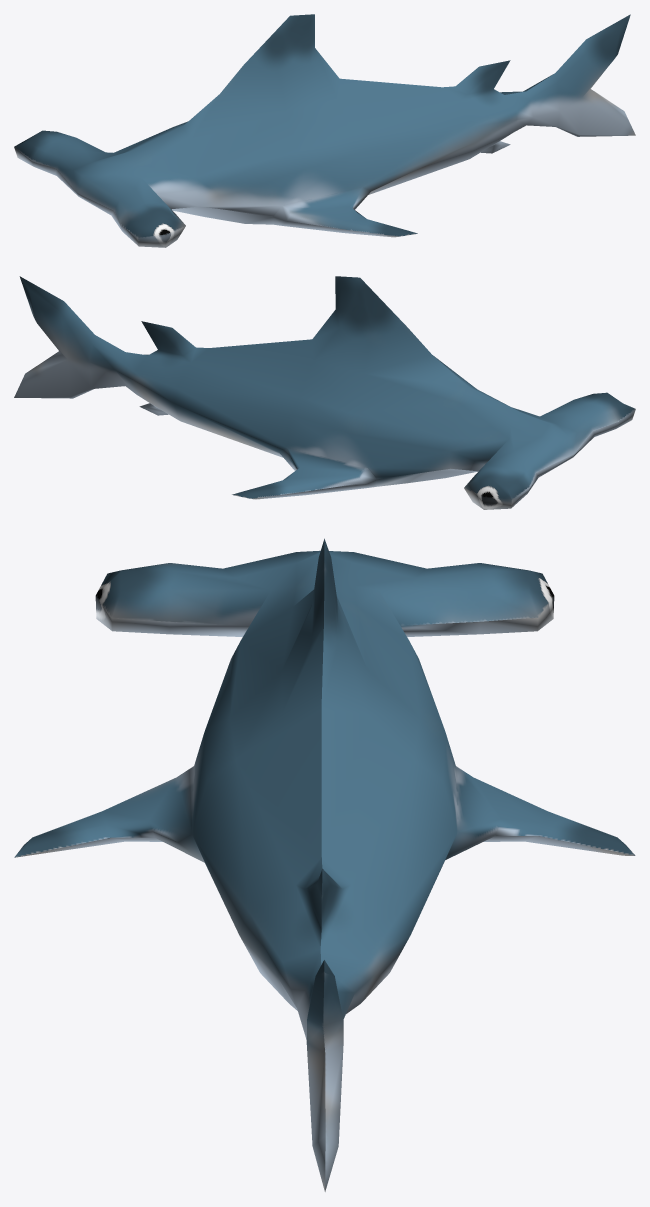
File: fish2.obj
The picture shows the model from 3 angles, top to bottom: view 1: azimuth 30°, elevation 25°; view 2: azimuth 150°, elevation 25°; view 3: azimuth 270°, elevation 25°; orthographic projection. The views are drawn at different scales.
Parts seen in each view (by area): view 1: Hammerhead_Shark_Mesh; view 2: Hammerhead_Shark_Mesh; view 3: Hammerhead_Shark_Mesh.
Boxes of the visible parts, left/top/right/bottom form: Hammerhead_Shark_Mesh: left=14, top=14, right=635, bottom=247; Hammerhead_Shark_Mesh: left=14, top=276, right=635, bottom=509; Hammerhead_Shark_Mesh: left=14, top=538, right=635, bottom=1191.
Bounding box in the file's own units: 11.16 × 3.9 × 6.13.
Materials: 1 (1 with a texture image).
